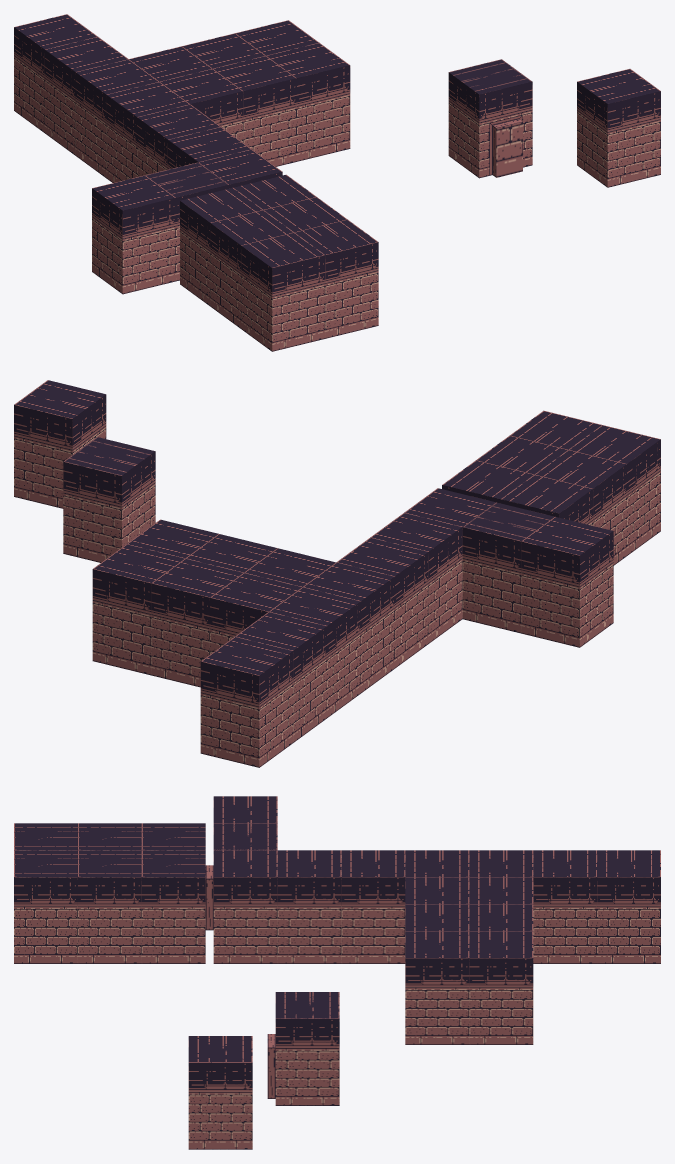
The model's file is metro-test.fbx.
The picture shows the model from 3 angles, top to bottom: view 1: azimuth 30°, elevation 25°; view 2: azimuth 150°, elevation 25°; view 3: azimuth 270°, elevation 25°; orthographic projection. The views are drawn at different scales.
Visible parts, largest first — view 1: main, door, base; view 2: main, door, base; view 3: main, door, base.
Part boxes in pixels (<box>): main: <box>14,14,378,351</box>; door: <box>448,59,532,178</box>; base: <box>577,69,660,187</box>; main: <box>92,410,660,767</box>; door: <box>63,437,155,562</box>; base: <box>14,380,106,508</box>; main: <box>14,796,660,1044</box>; door: <box>267,992,339,1105</box>; base: <box>188,1036,252,1149</box>.
Bounding box in the file's own units: 988 × 150 × 1013.
Materials: 1 (1 with a texture image).
